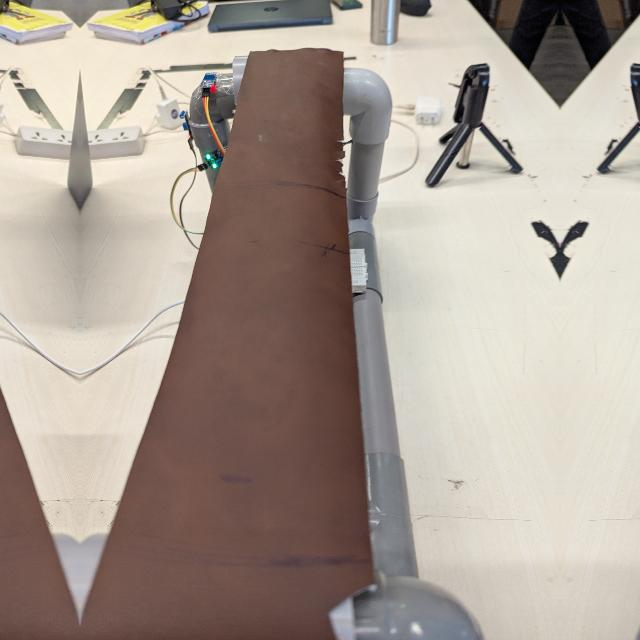edge_damage: (324, 126, 358, 198)
